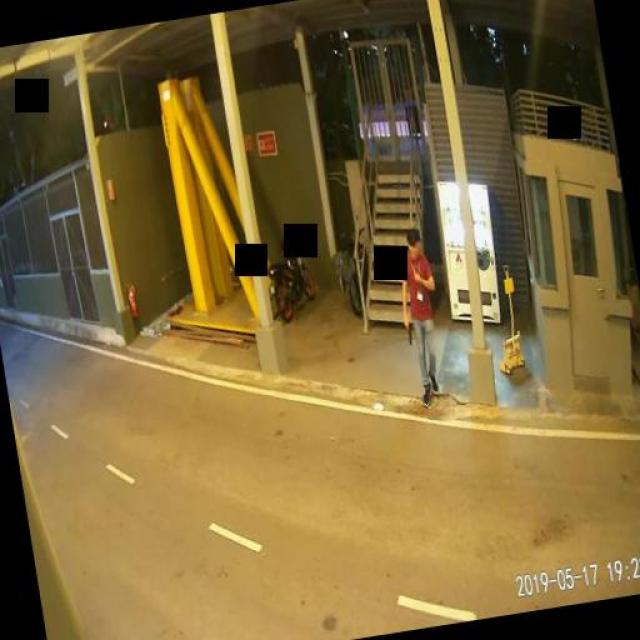gun: (400, 314, 414, 344)
